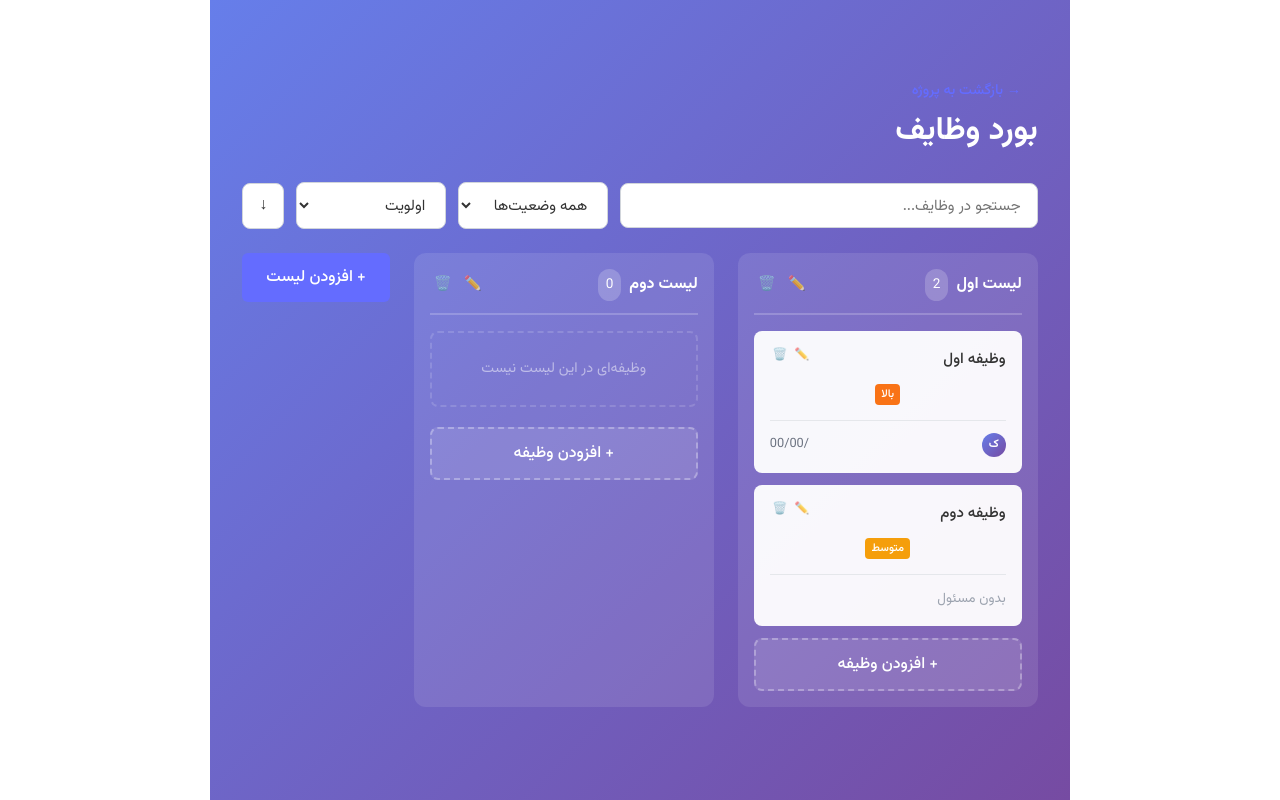
TaskBoard › Create list › shows create list form when add list button is clicked
Expected: the heading "لیست اول" is shown, top-left (956, 271), bottom-right (1022, 298)
Click the button "+ افزودن لیست".
click(316, 278)  # box top-left (242, 253), bottom-right (390, 302)
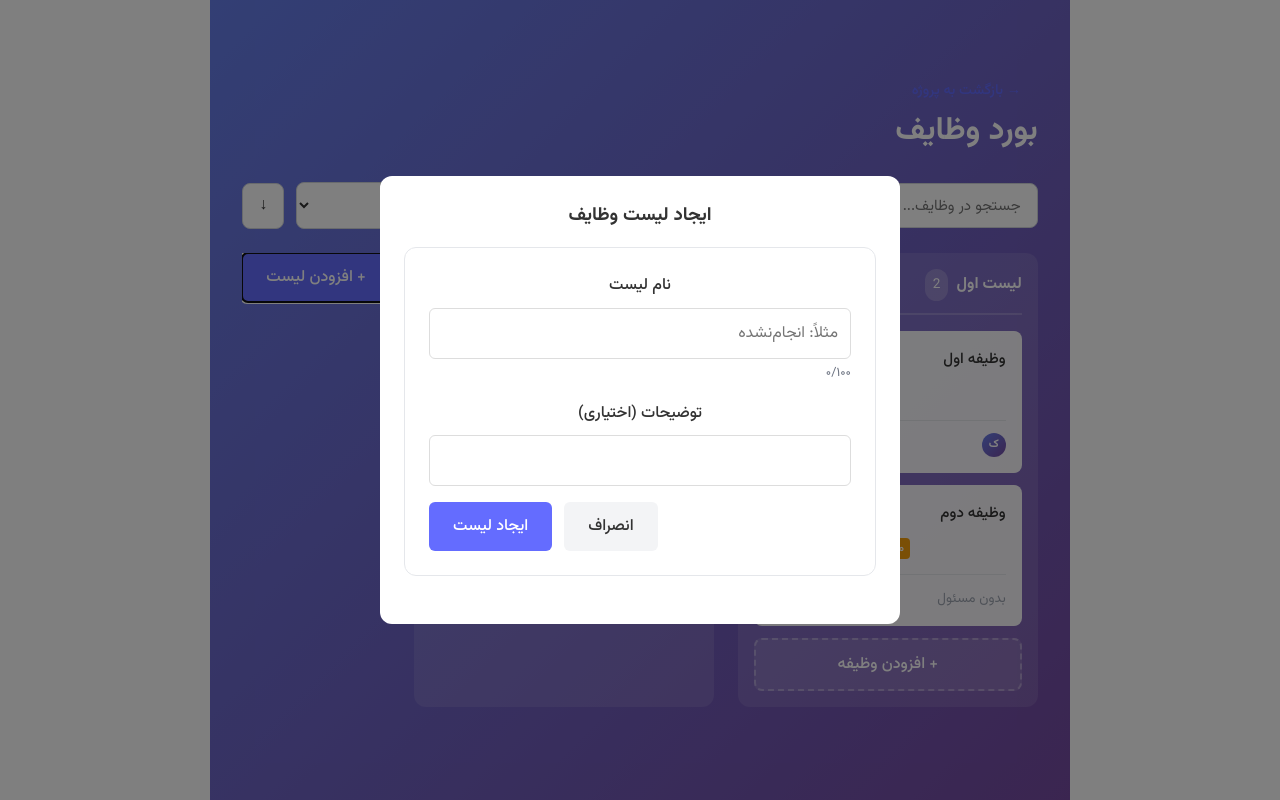
Result: the button "ایجاد لیست" is shown at top-left (429, 502), bottom-right (552, 552)
Result: the field with placeholder "مثلاً: انجام‌نشده" is shown at top-left (429, 308), bottom-right (851, 358)
